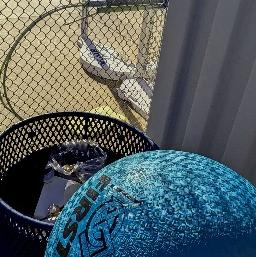algae: (39, 146, 256, 257)
